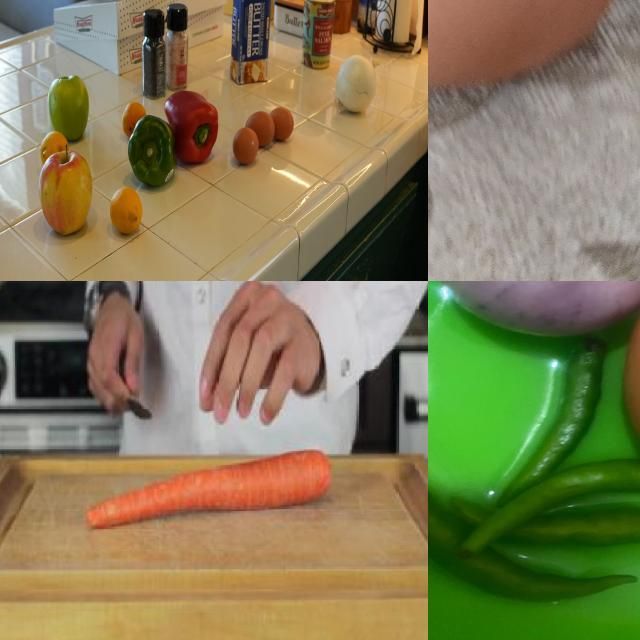bell_pepper: (164, 87, 220, 166), (130, 118, 176, 190), (143, 13, 167, 99)
carrot: (83, 442, 340, 531)
egg: (429, 1, 629, 93), (247, 113, 277, 150), (235, 131, 262, 167), (272, 108, 298, 144)
onion: (335, 58, 383, 120)
